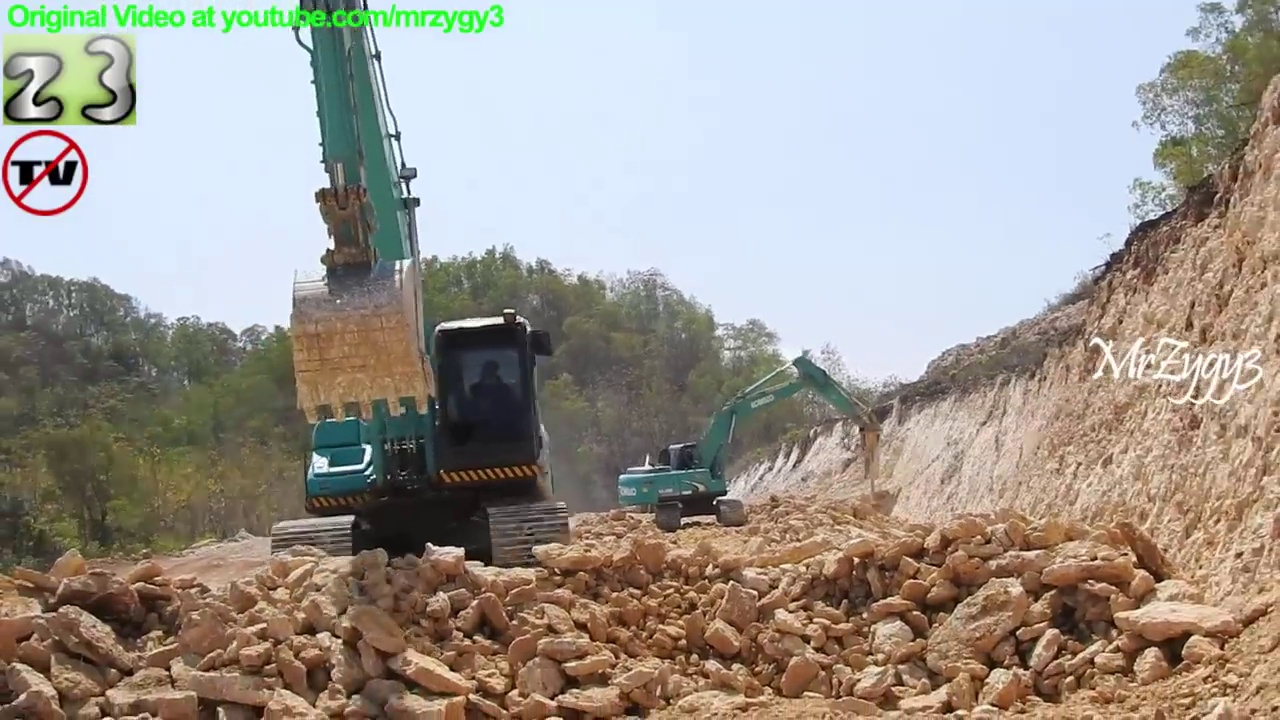excavator: (256, 1, 585, 592)
excavator breaker: (612, 348, 888, 537)
